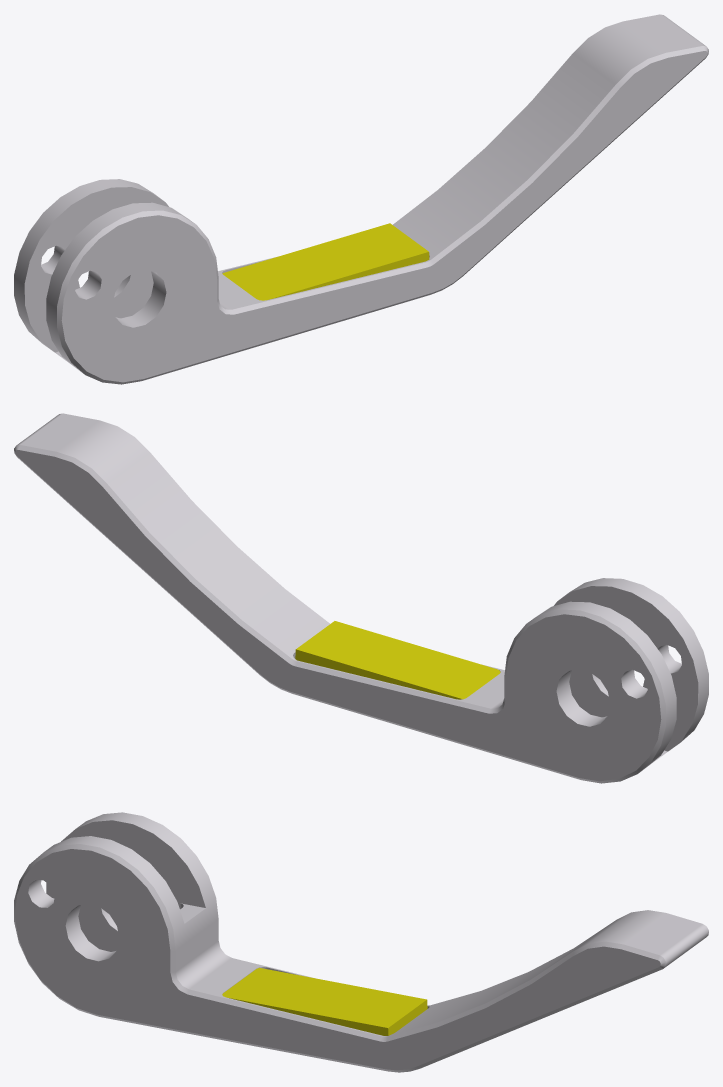
The model's file is thumb.DAE.
3 renders of one model, top to bottom at view 1: azimuth 30°, elevation 25°; view 2: azimuth 150°, elevation 25°; view 3: azimuth 330°, elevation 25°, orthographic.
Parts seen in each view (by area): view 1: ソリッド1, ソリッド2; view 2: ソリッド1, ソリッド2; view 3: ソリッド1, ソリッド2.
Boxes of the visible parts, bbox=[...] form: ソリッド1: bbox=[14, 14, 708, 384]; ソリッド2: bbox=[222, 223, 429, 300]; ソリッド1: bbox=[14, 413, 708, 783]; ソリッド2: bbox=[295, 621, 500, 699]; ソリッド1: bbox=[14, 812, 708, 1072]; ソリッド2: bbox=[222, 967, 427, 1035].
Bounding box in the file's own units: 0.0964 × 0.012 × 0.0283.
